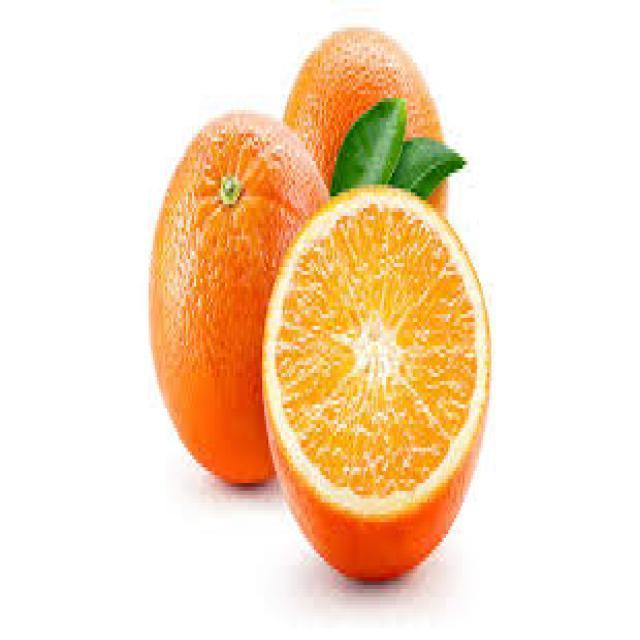non-mango: (260, 184, 491, 582), (147, 109, 330, 486), (282, 25, 448, 215)
